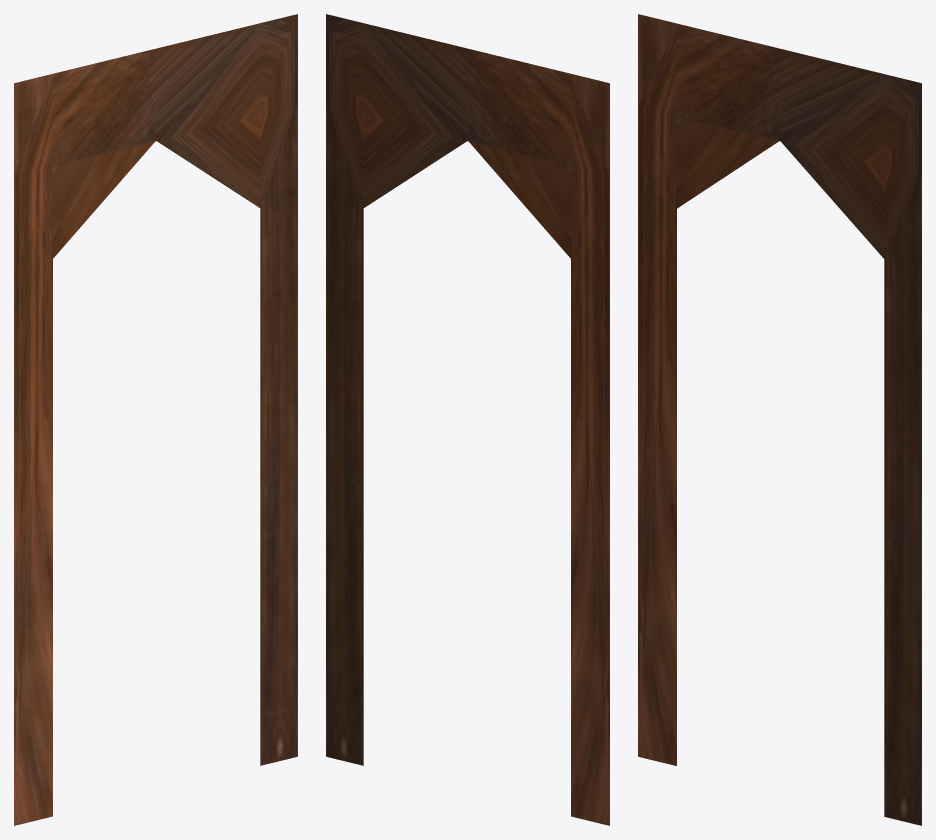
The model's file is doorpost2.glb.
The picture shows the model from 3 angles, left to right: view 1: azimuth 30°, elevation 25°; view 2: azimuth 150°, elevation 25°; view 3: azimuth 330°, elevation 25°; orthographic projection.
Visible parts, largest first — view 1: doorpost-col; view 2: doorpost-col; view 3: doorpost-col.
Part boxes in pixels (x1,y1,x2,y2): doorpost-col: [14, 14, 297, 825]; doorpost-col: [326, 14, 609, 825]; doorpost-col: [638, 14, 921, 825].
Size of the model in its own units: 1 by 2.5 by 6.56e-08.
1 material, 1 textured.
